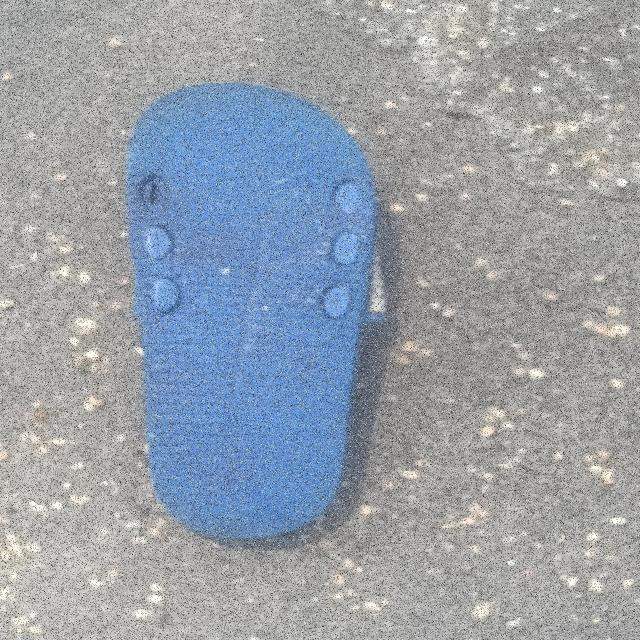rubber_waste: (125, 82, 383, 545)
